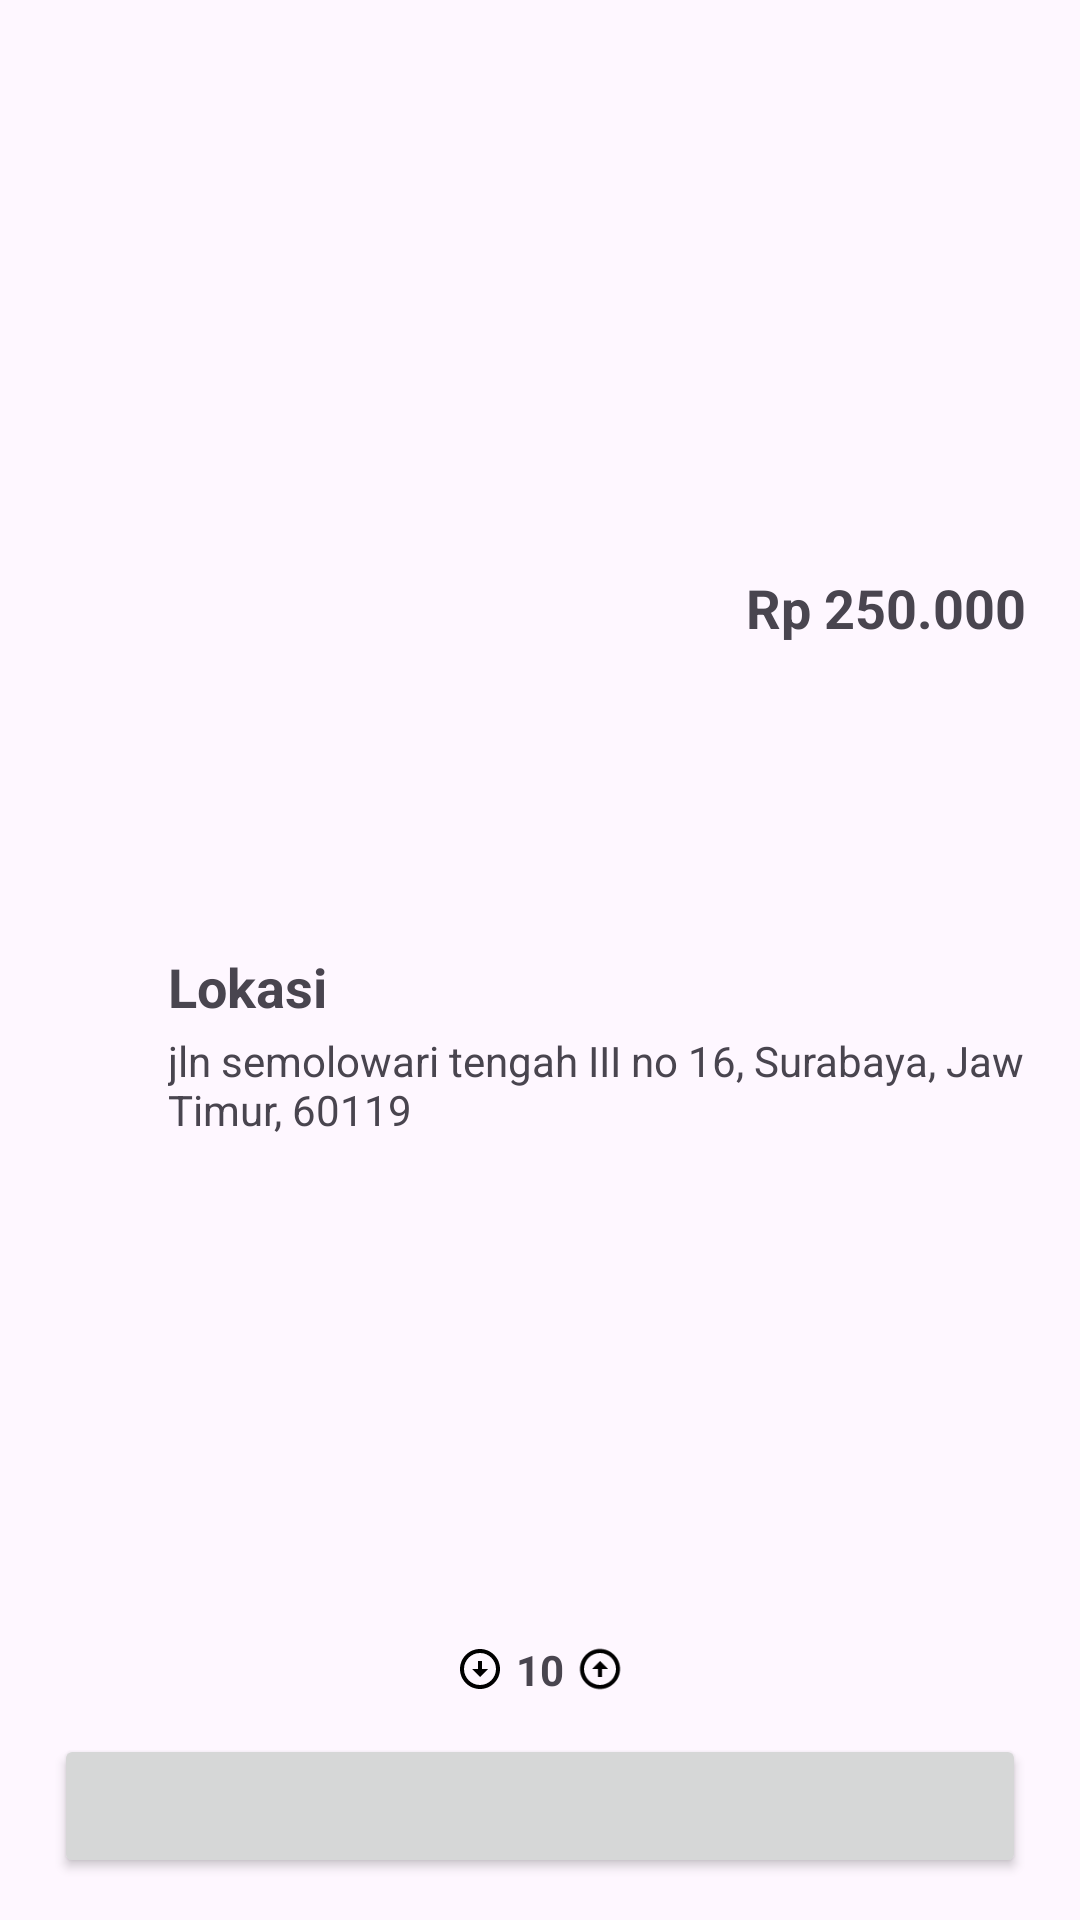

Where icons sit on this 1080 x 1920 app screen, as box=[x1, y1, x2, y2]:
arrow down: box=[460, 1649, 500, 1689]
arrow up: box=[579, 1648, 621, 1690]
